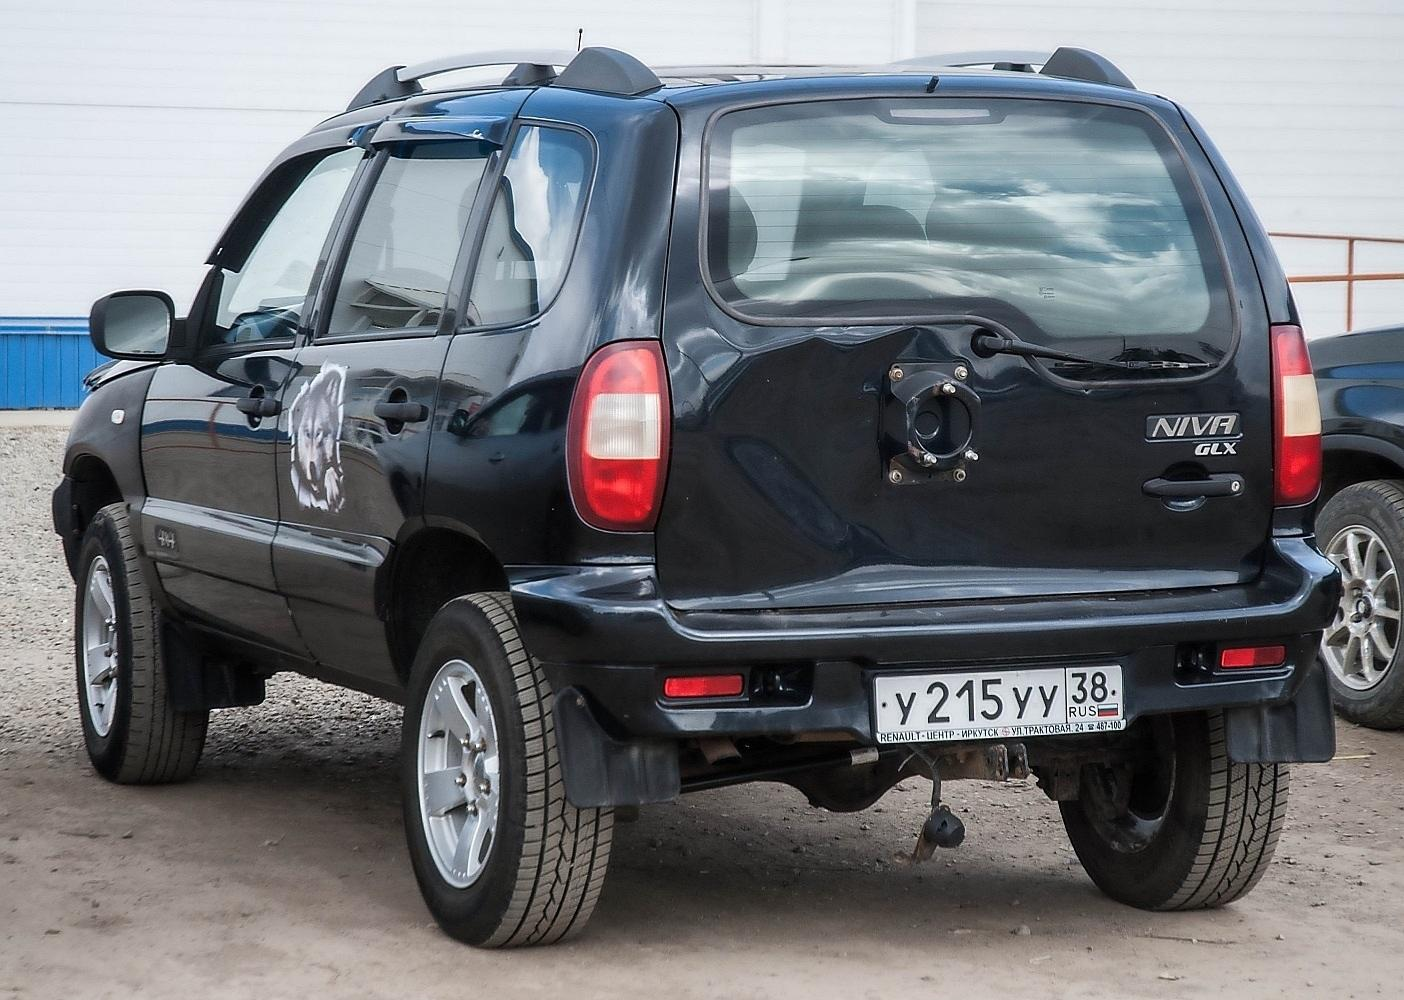license-plateSW: (877, 670, 1127, 730)
